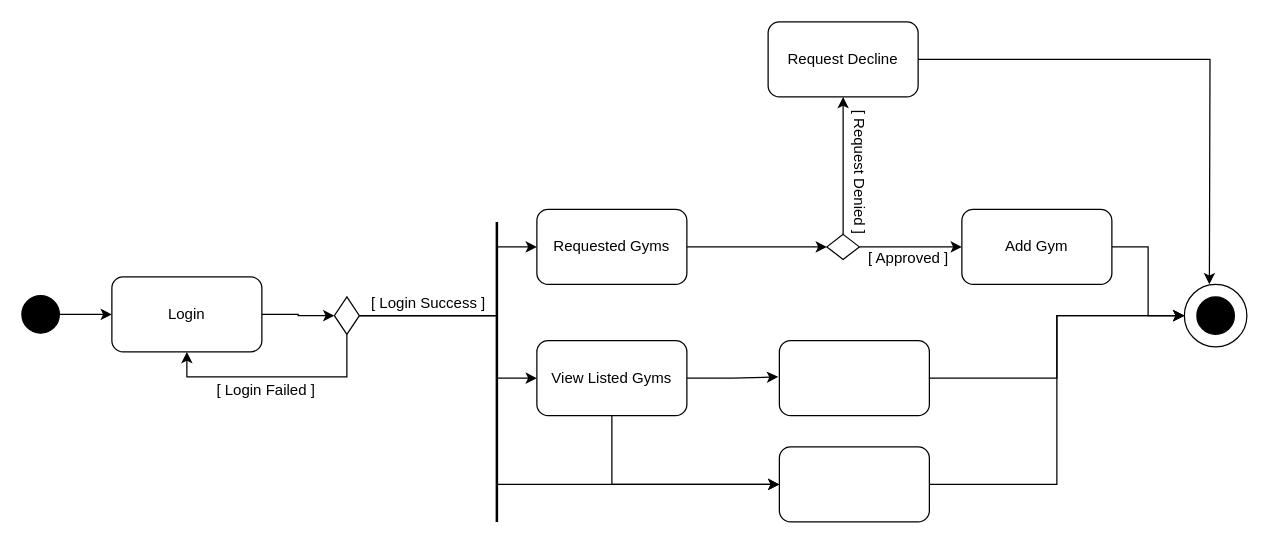
The diagram is 1269 pixels wide and 546 high, and some of its shapes have lost their labels. Here are the shapes that lost their labels. From the top down, the centre of each, then its label:
At point (853, 377): "View/ Update Details".
At point (853, 484): "Add / Delete Gym".
